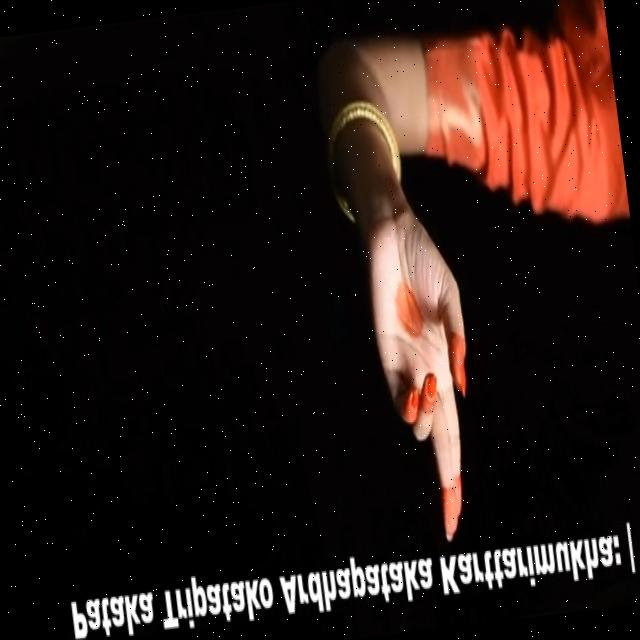Kartarimukha: (346, 212, 519, 554)
bangle: (306, 85, 414, 216)
text: (60, 507, 640, 640)
